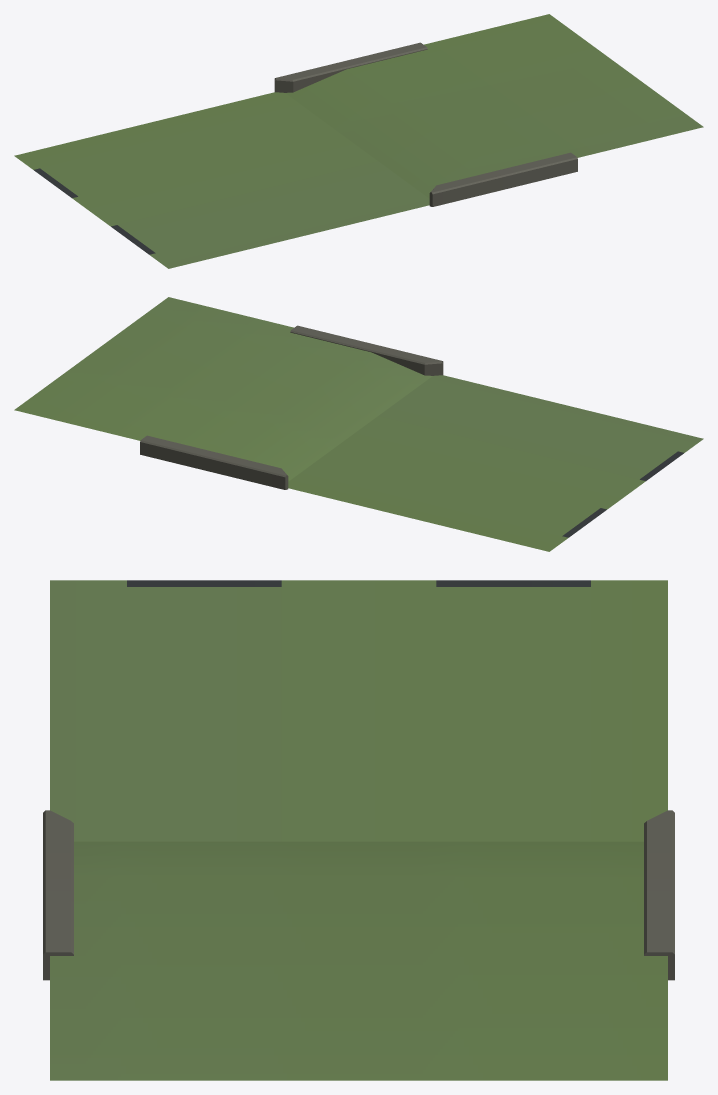
File: Road_37.fbx
3 views of the same model, one above another, from view 1: azimuth 30°, elevation 25°; view 2: azimuth 150°, elevation 25°; view 3: azimuth 270°, elevation 25° (orthographic). The views are drawn at different scales.
Visible parts, largest first — view 1: Road_37; view 2: Road_37; view 3: Road_37.
Boxes of the visible parts, box(x1,y1,x2,y2) form: Road_37: box(14, 14, 703, 268); Road_37: box(14, 297, 703, 551); Road_37: box(43, 580, 674, 1080).
Size of the model in its own units: 6 by 0.15 by 3.07.
